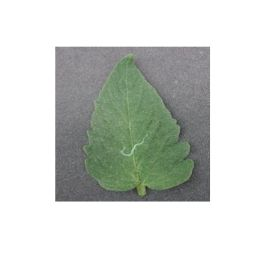liriomyza: (119, 132, 149, 157)
